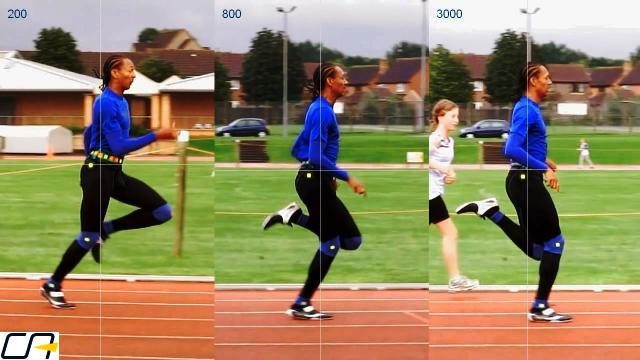berlari: (36, 40, 176, 318), (451, 56, 584, 328), (255, 52, 382, 322)
